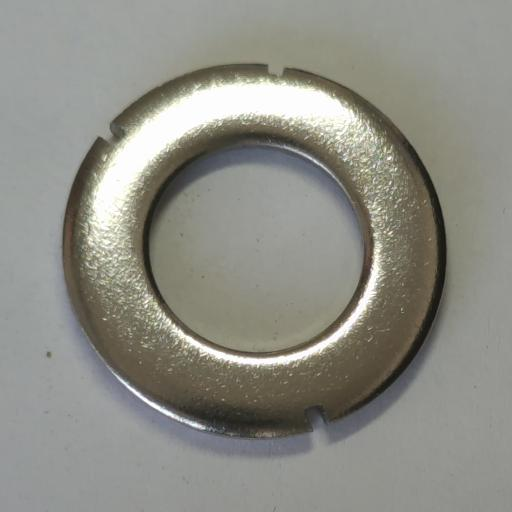burr: (302, 403, 329, 430), (95, 122, 126, 145), (265, 60, 288, 79)
